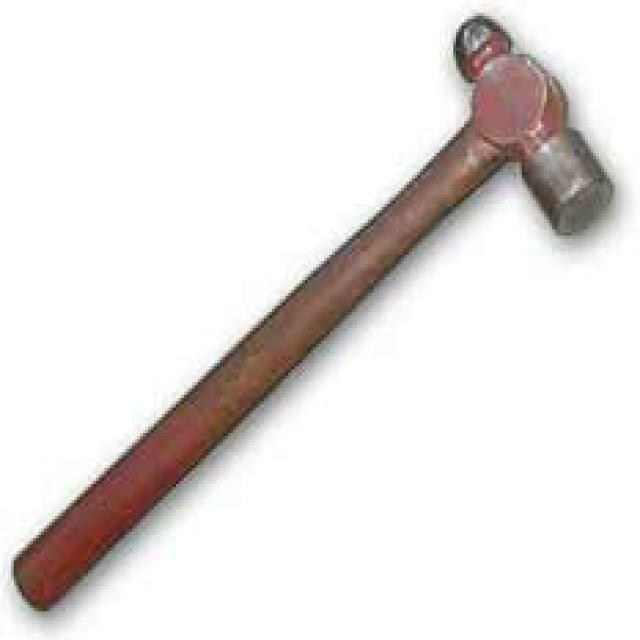hammer: (8, 8, 621, 620)
